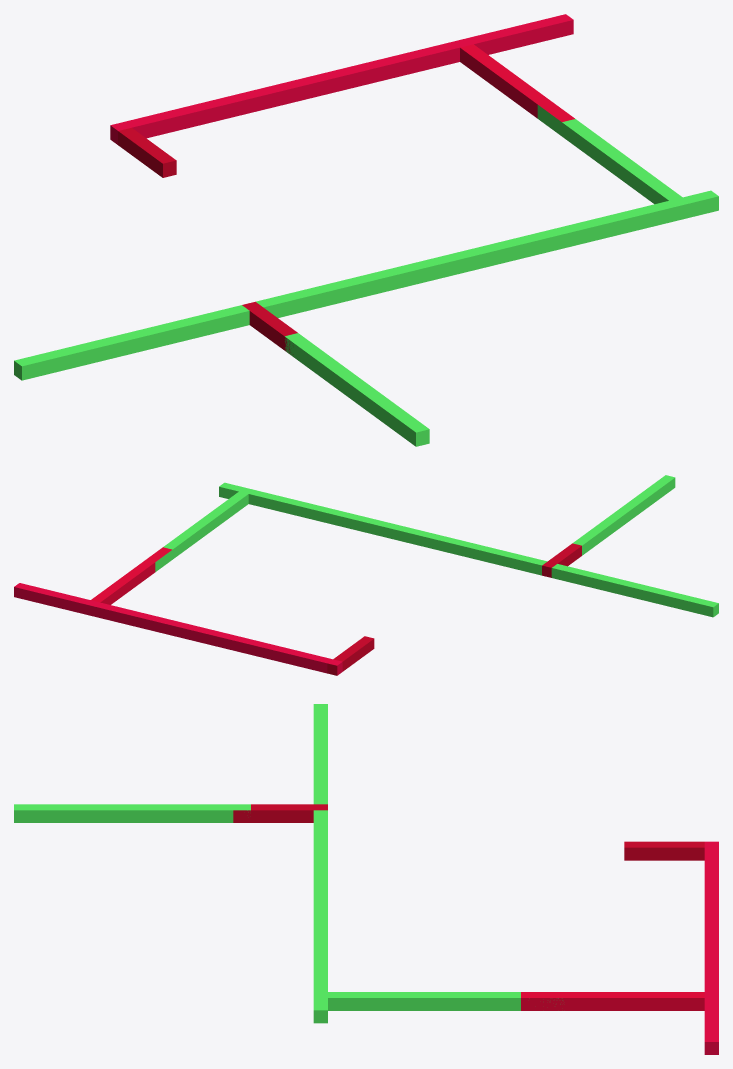
Rendered from 层篮线线路.fbx.
The picture shows the model from 3 angles, top to bottom: view 1: azimuth 30°, elevation 25°; view 2: azimuth 150°, elevation 25°; view 3: azimuth 270°, elevation 25°; orthographic projection. The views are drawn at different scales.
Size of the model in its own units: 6.75 by 0.12 by 5.95.
